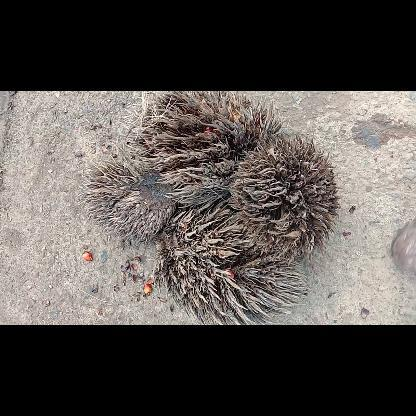Janjang kosong: (121, 90, 281, 208), (152, 210, 306, 324), (230, 134, 340, 264), (77, 155, 177, 243)
